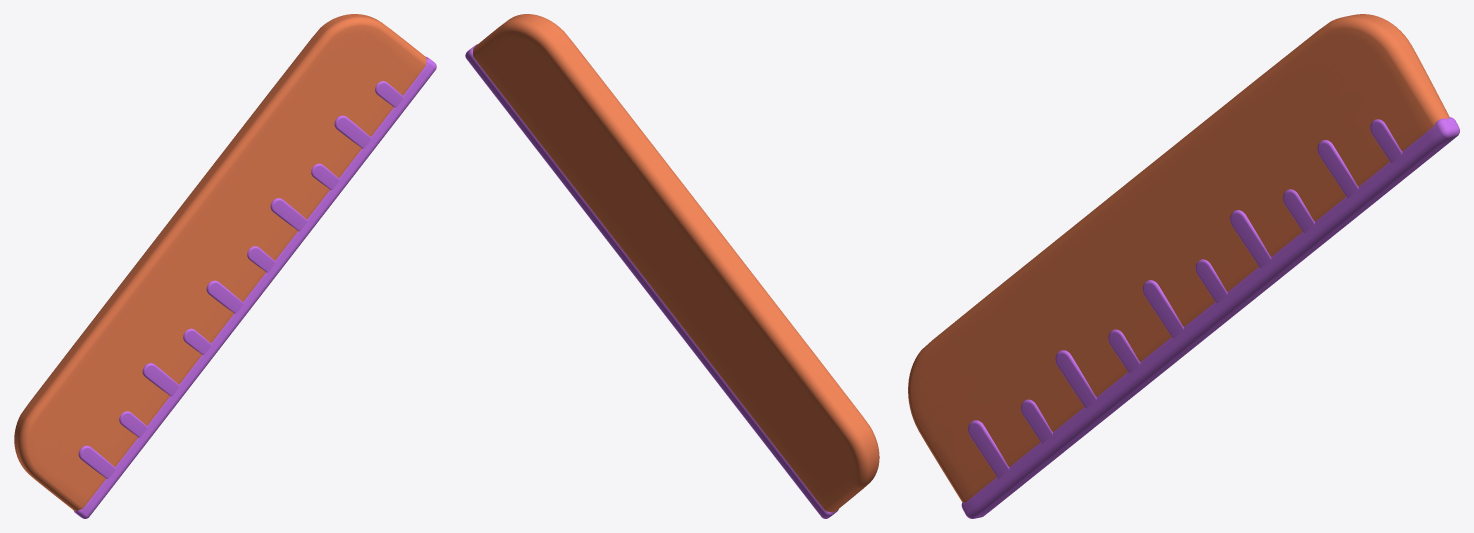
The model's file is 13. Ruler.glb.
The picture shows the model from 3 angles, left to right: view 1: azimuth 30°, elevation 25°; view 2: azimuth 150°, elevation 25°; view 3: azimuth 330°, elevation 25°; orthographic projection. The views are drawn at different scales.
Visible parts, largest first — view 1: Ruler, Cube.002, Cube.001; view 2: Ruler, Cube.002; view 3: Ruler, Cube.002, Cube.001.
Boxes of the visible parts, bbox=[...] form: Ruler: bbox=[14, 14, 426, 511]; Cube.002: bbox=[73, 57, 436, 518]; Cube.001: bbox=[78, 81, 403, 478]; Ruler: bbox=[473, 14, 879, 512]; Cube.002: bbox=[465, 44, 838, 518]; Ruler: bbox=[908, 14, 1449, 502]; Cube.002: bbox=[961, 117, 1459, 518]; Cube.001: bbox=[968, 119, 1402, 478].
Bounding box in the file's own units: 0.4124 × 0.4124 × 0.0428.
